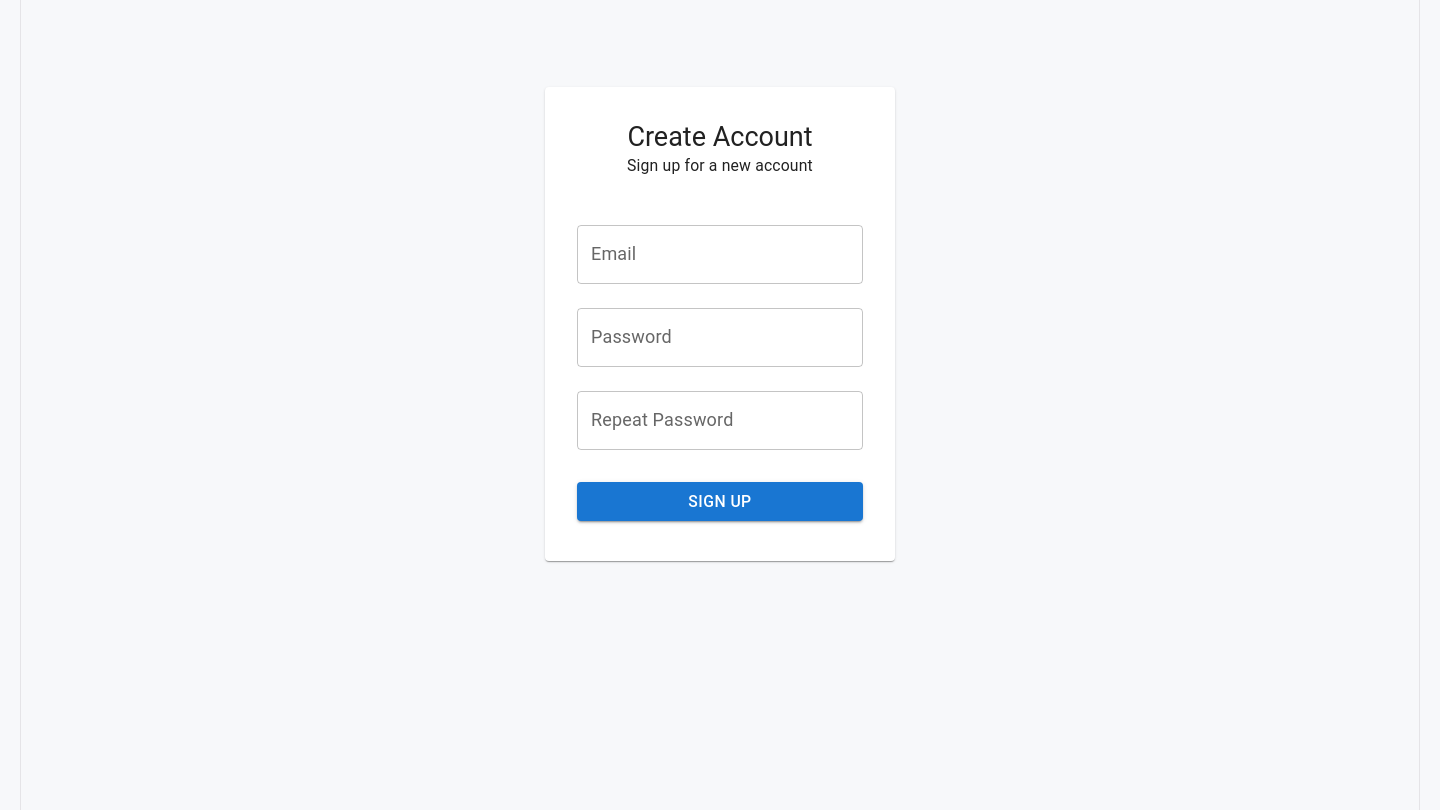
Signup › refuses when the two passwords differ
Type "dana@example.com" into the field labelled "Email" at (720, 255), box [577,225,863,284]
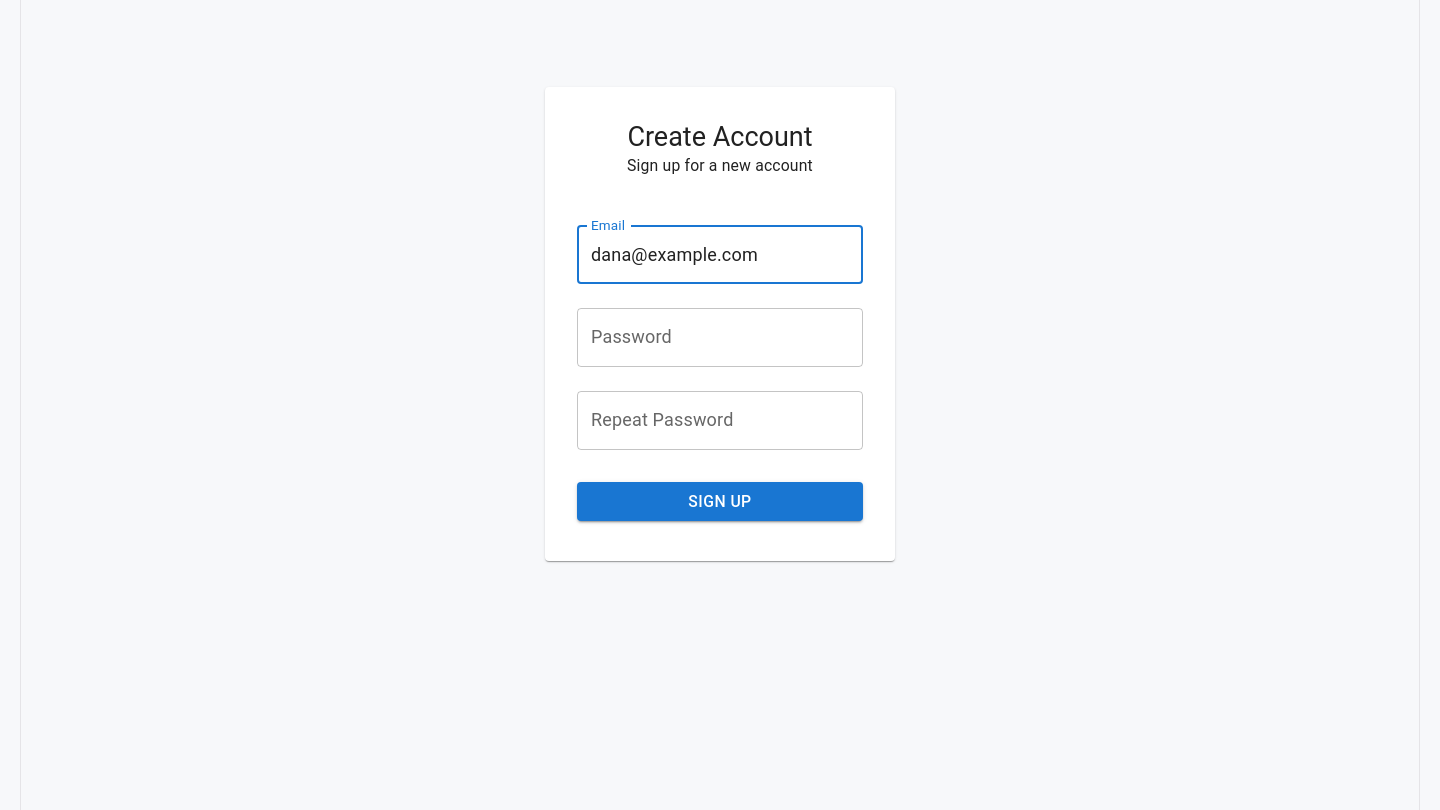
Type "Password123!" into the password field labelled "Password" at (720, 337), box [577,308,863,367]
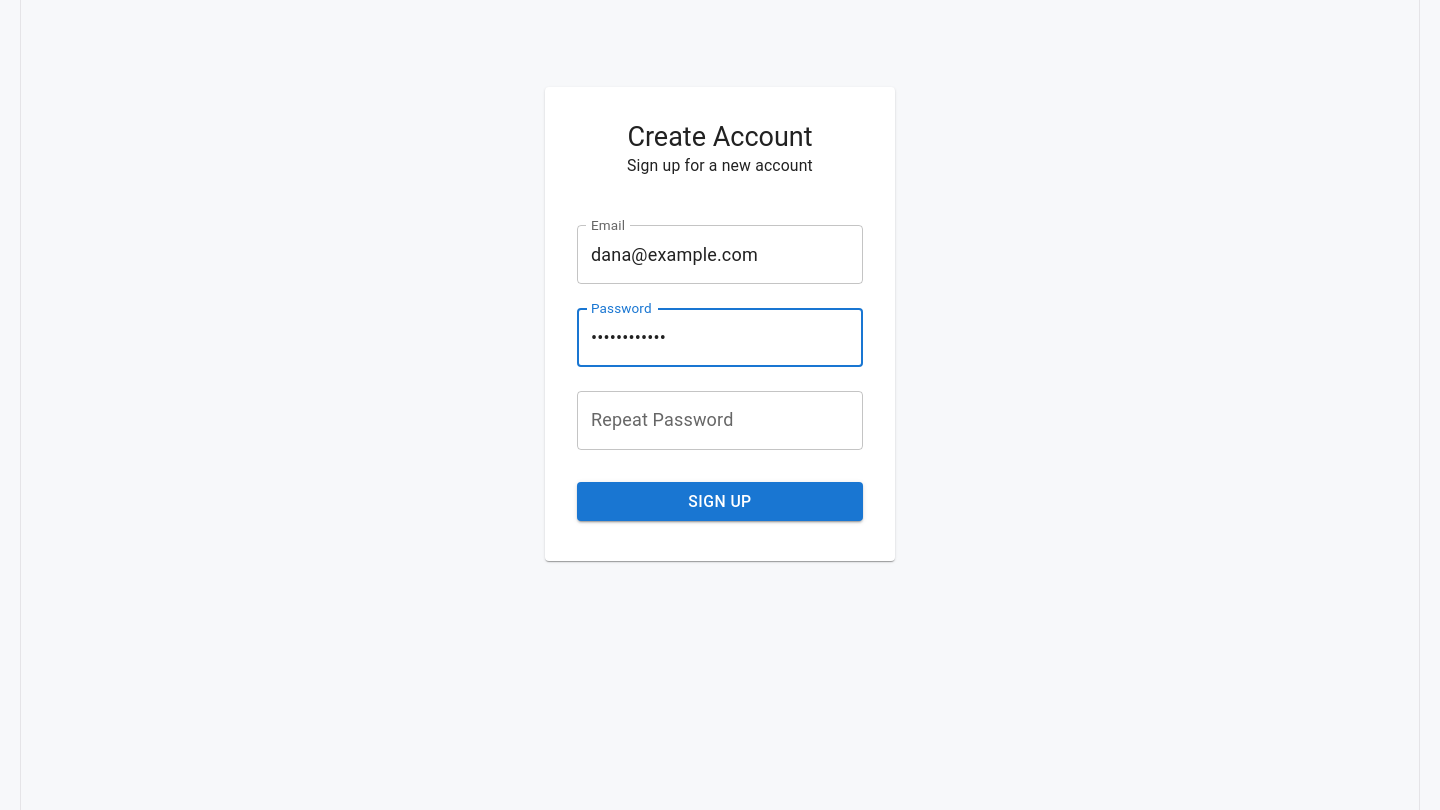
Type "Password999!" into the password field labelled "Repeat Password" at (720, 420), box [577,391,863,450]
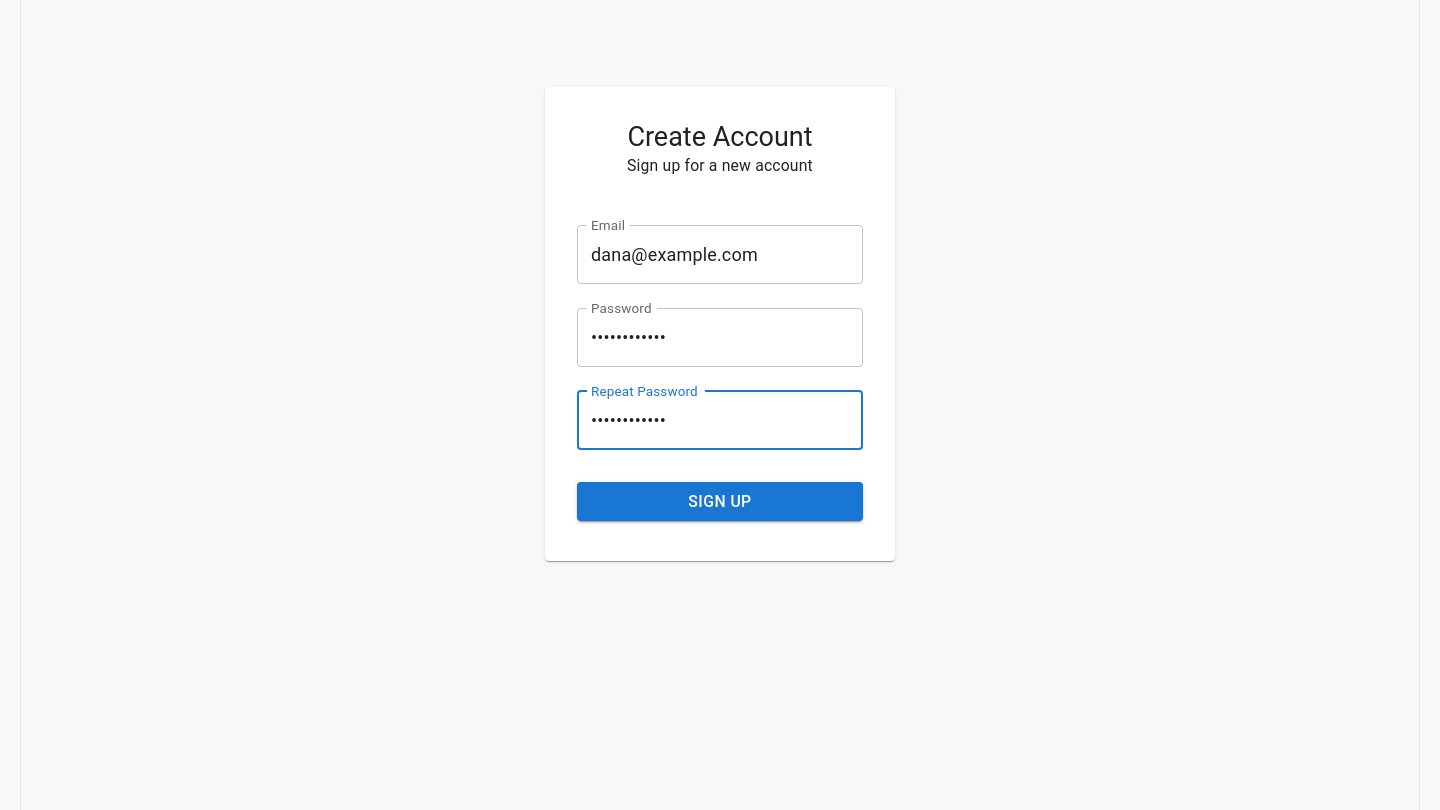
Click the button "Sign Up" at (720, 502), box [577,482,863,521]
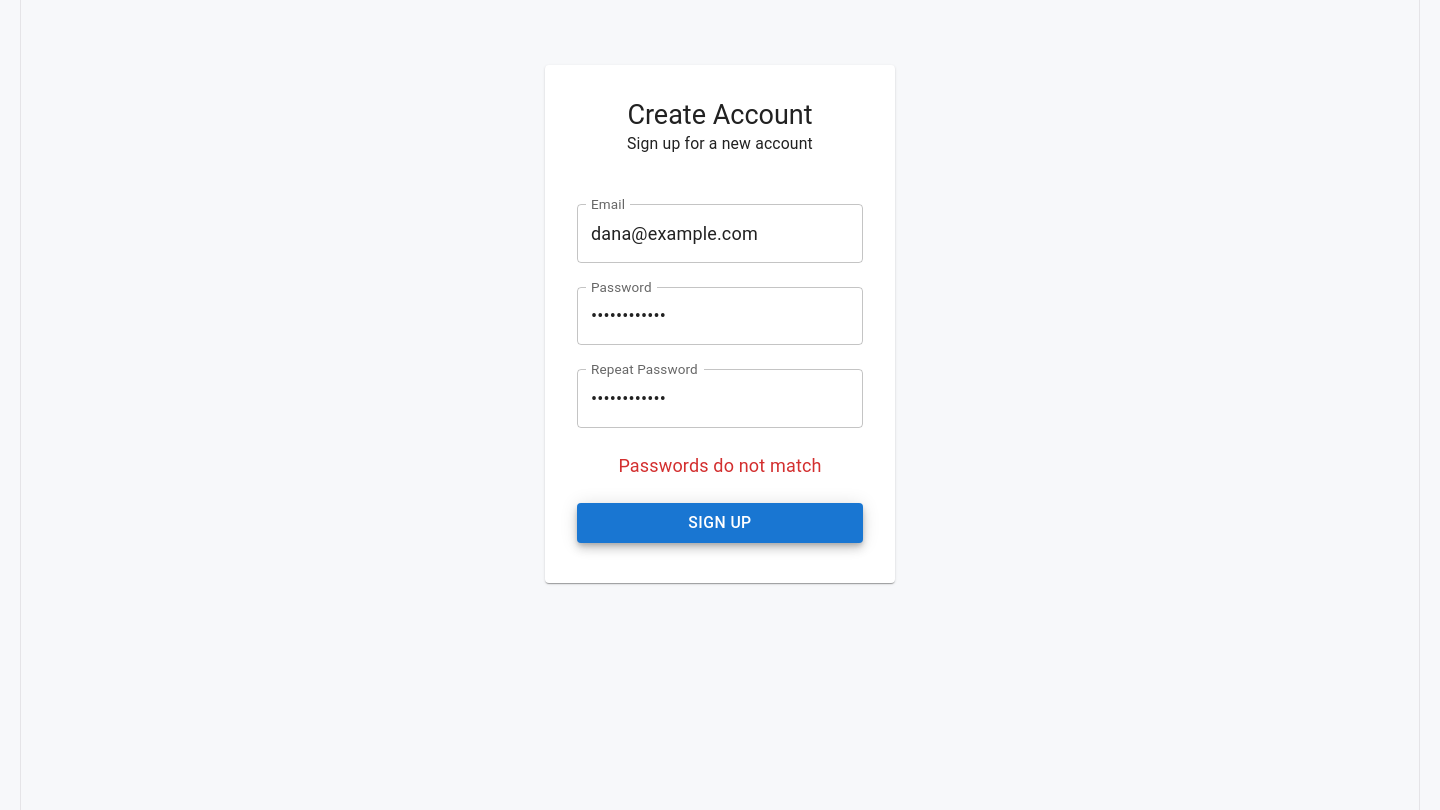
Expected: the text "Passwords do not match" is shown, [618,455,822,476]
